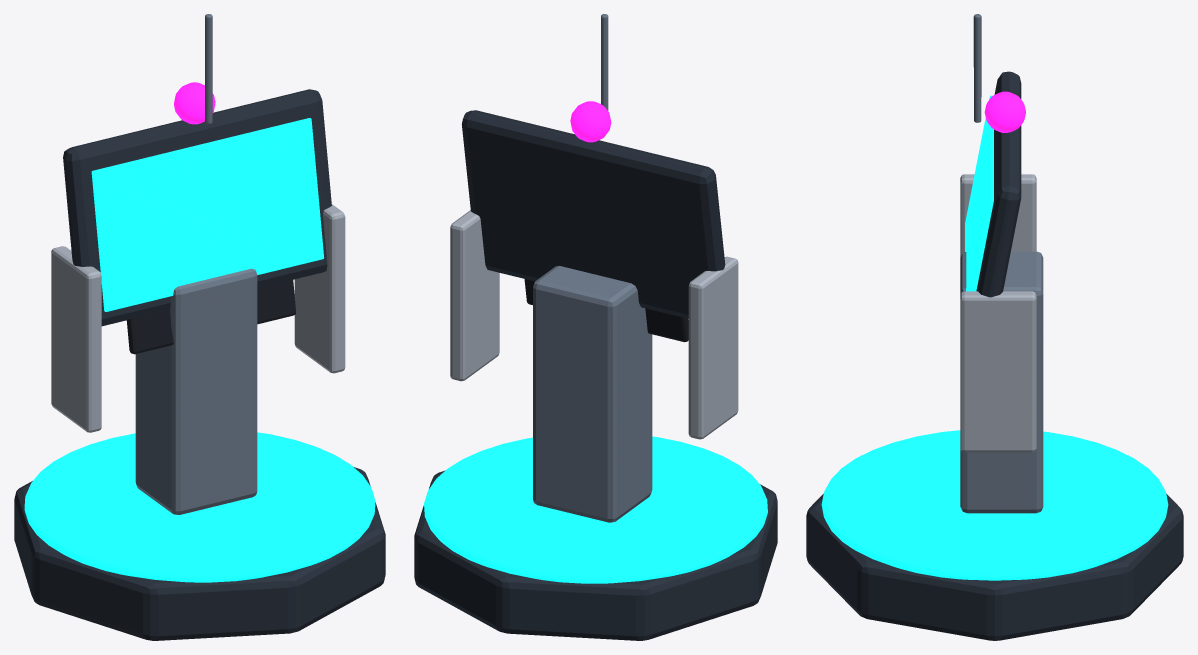
The model's file is platform_kiosk.glb.
The picture shows the model from 3 angles, left to right: view 1: azimuth 30°, elevation 25°; view 2: azimuth 150°, elevation 25°; view 3: azimuth 270°, elevation 25°; orthographic projection. The views are drawn at different scales.
Parts seen in each view (by area): view 1: Kiosk_Antenna, Kiosk_HoloPanel, Kiosk_Beacon; view 2: Kiosk_Antenna, Kiosk_HoloPanel, Kiosk_Beacon; view 3: Kiosk_Antenna, Kiosk_HoloPanel, Kiosk_Beacon.
Part boxes in pixels (x1,y1,x2,y2): Kiosk_Antenna: (14,14,385,640); Kiosk_HoloPanel: (24,118,375,582); Kiosk_Beacon: (174,82,215,124); Kiosk_Antenna: (414,14,777,640); Kiosk_HoloPanel: (424,436,767,583); Kiosk_Beacon: (570,101,611,142); Kiosk_Antenna: (806,14,1183,640); Kiosk_HoloPanel: (821,95,1168,580); Kiosk_Beacon: (984,91,1025,132).
Bounding box in the file's own units: 1.09 × 1.75 × 1.09.
3 materials, 3 textured.
